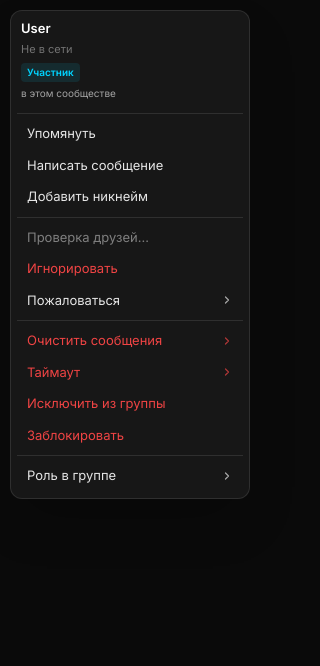
Test: updates the system-role checkmark without reopening the menu
What coordinates should you click on to do the following:
click the button "Роль в группе"
I would click on:
 (130, 476)
Its box is [17,460,243,492].
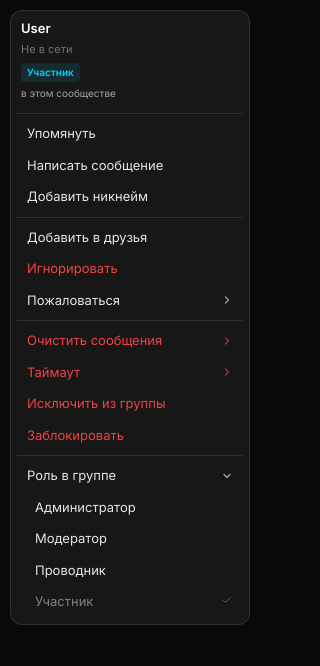
Expected: the button "Модератор" is enabled
What coordinates should you click on to do the following:
click the button "Модератор"
I would click on:
 (134, 539)
Its box is [25,523,243,554].
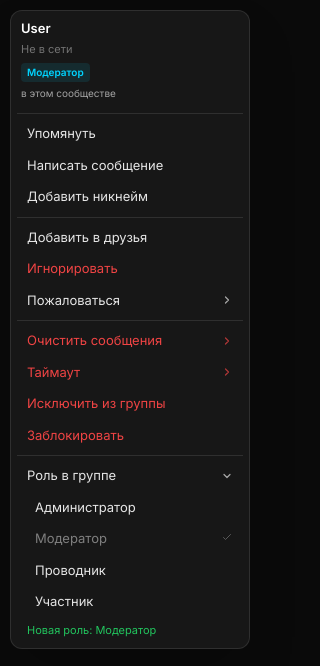
Expected: the 5th icon is shown, [221,531,233,543]
Expected: the button "Модератор" is disabled, [25,523,243,554]
Expected: the button "Участник" is enabled, [25,586,243,618]
